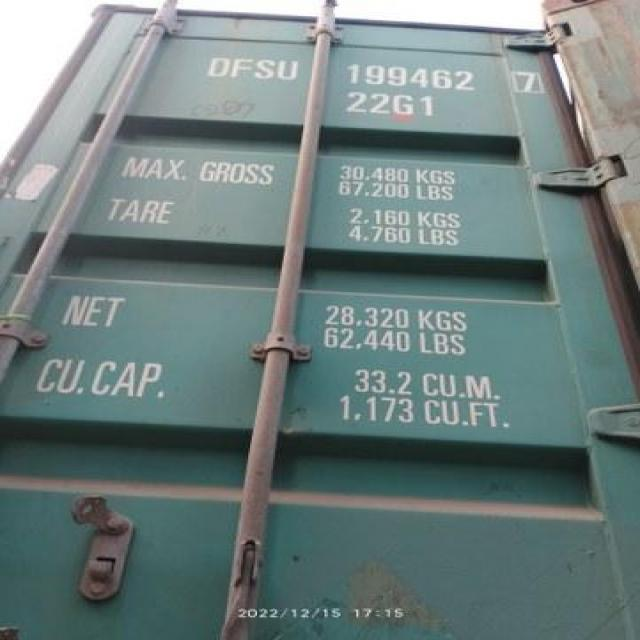container_number_h: (187, 20, 566, 158)
